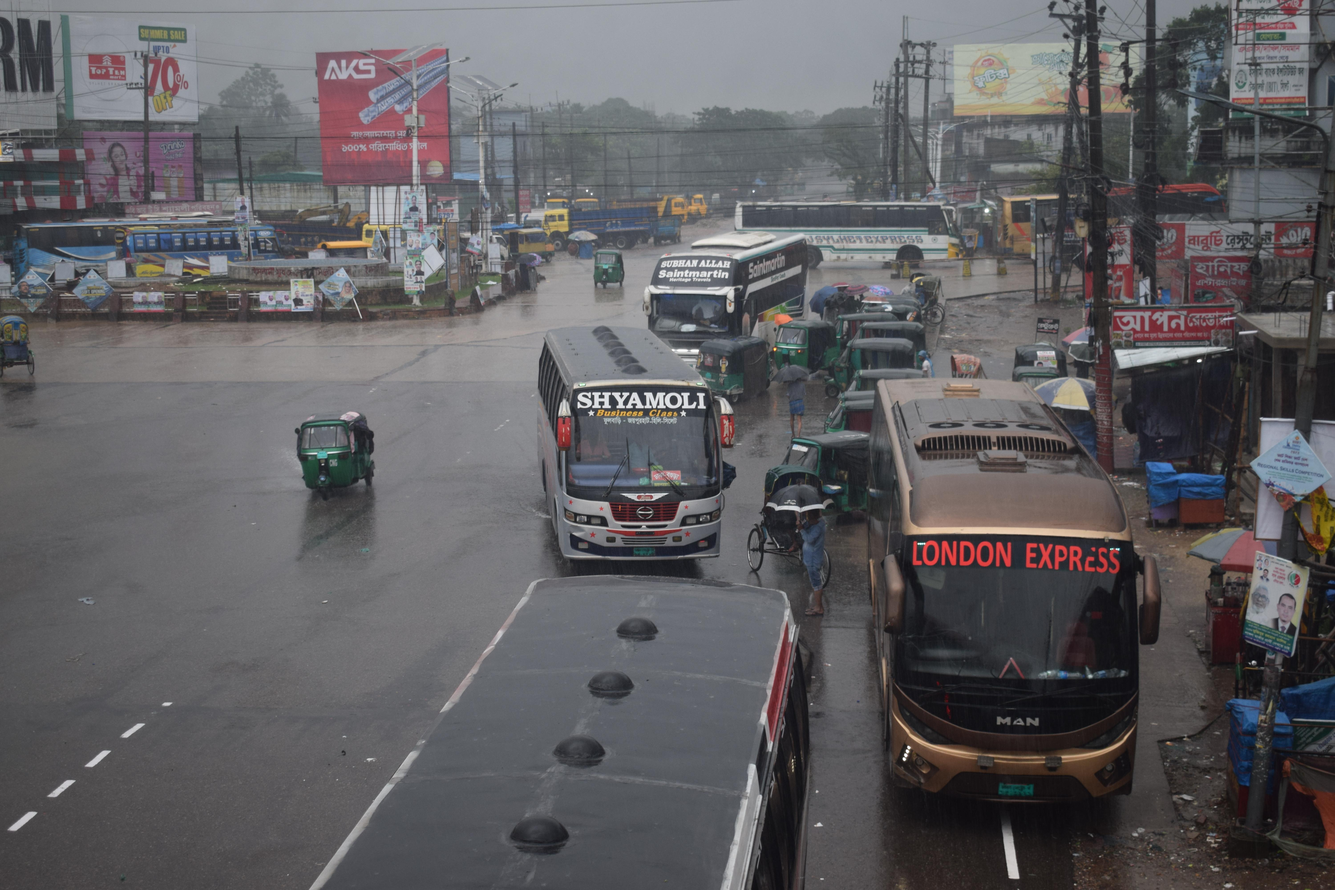Bus: (227, 533, 869, 890), (847, 339, 1174, 848), (505, 300, 743, 595), (619, 207, 834, 407), (720, 178, 997, 292), (982, 163, 1232, 278), (111, 190, 310, 293), (3, 186, 161, 312), (530, 184, 676, 256), (285, 214, 405, 267)
Car: (732, 451, 858, 619), (733, 441, 855, 608), (0, 297, 65, 395)
